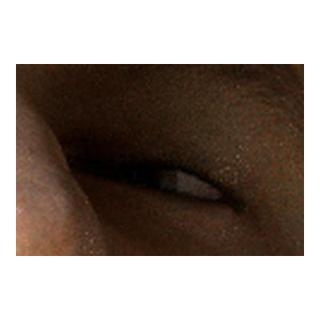pupil: (116, 162, 154, 200)
